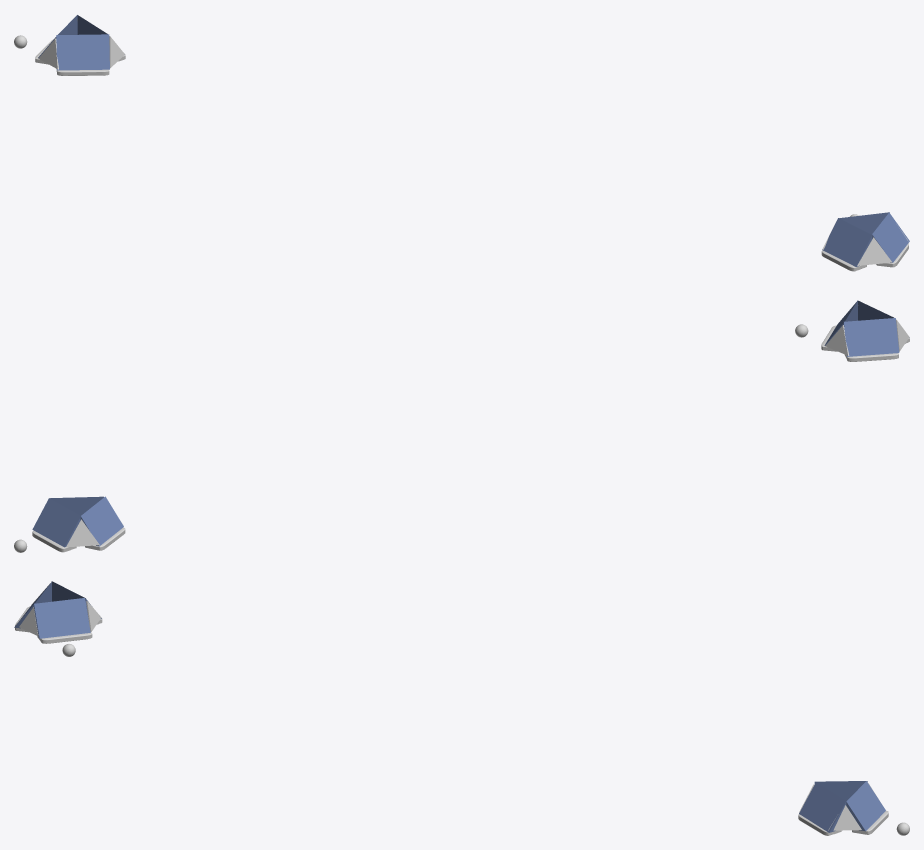
The model's file is Powerful Waasa-Densor (1).gltf.
3 renders of one model, top to bottom at view 1: azimuth 90°, elevation 25°; view 2: azimuth 150°, elevation 25°; view 3: azimuth 270°, elevation 25°, orthographic.
Visible parts, largest first — view 1: Mesh_Mesh_head_geo.001_lambert2SG.001; view 2: Mesh_Mesh_head_geo.001_lambert2SG.001; view 3: Mesh_Mesh_head_geo.001_lambert2SG.001.
Boxes of the visible parts, box(x1,y1,x2,y2) form: Mesh_Mesh_head_geo.001_lambert2SG.001: box(14, 15, 909, 271); Mesh_Mesh_head_geo.001_lambert2SG.001: box(14, 300, 909, 552); Mesh_Mesh_head_geo.001_lambert2SG.001: box(14, 581, 909, 835).
Bounding box in the file's own units: 207 × 14 × 338.
